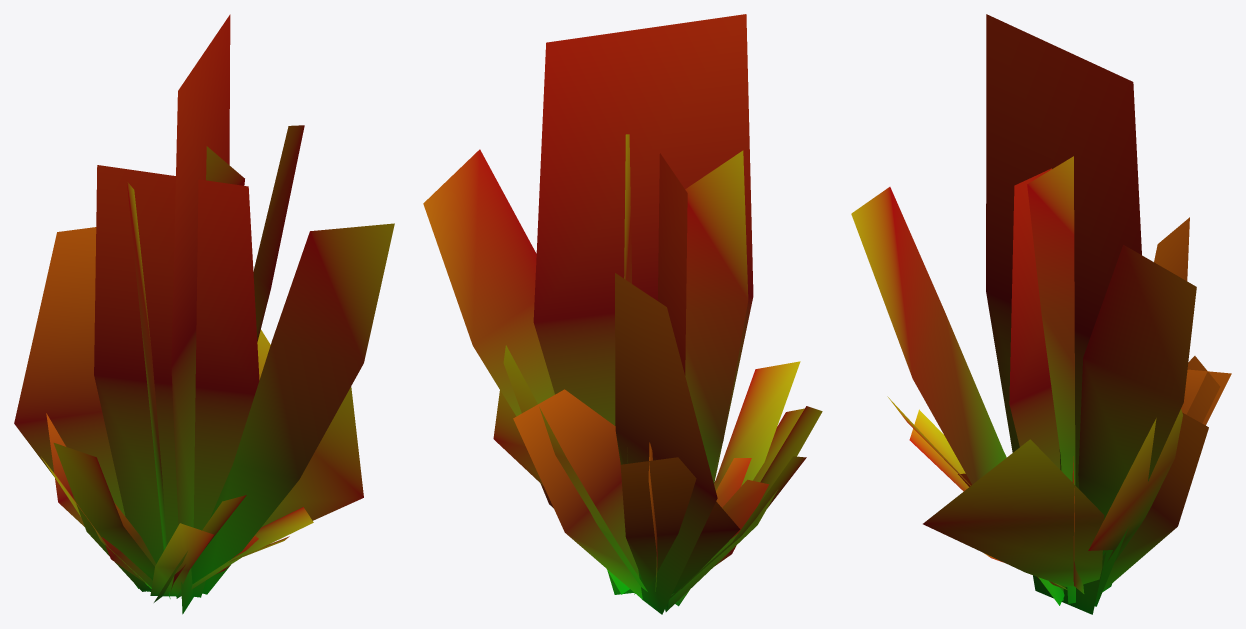
The model's file is Dead Broom Bush_LOD1_Var2_tlpjdhwia.fbx.
The picture shows the model from 3 angles, left to right: view 1: azimuth 30°, elevation 25°; view 2: azimuth 150°, elevation 25°; view 3: azimuth 270°, elevation 25°; orthographic projection. The views are drawn at different scales.
Visible parts, largest first — view 1: _c103_Var2_LOD1; view 2: _c103_Var2_LOD1; view 3: _c103_Var2_LOD1.
Boxes of the visible parts, <box> form: _c103_Var2_LOD1: <box>14,14,394,614</box>; _c103_Var2_LOD1: <box>423,14,822,614</box>; _c103_Var2_LOD1: <box>851,14,1231,614</box>.
Bounding box in the file's own units: 29.8 × 50.13 × 30.63.
